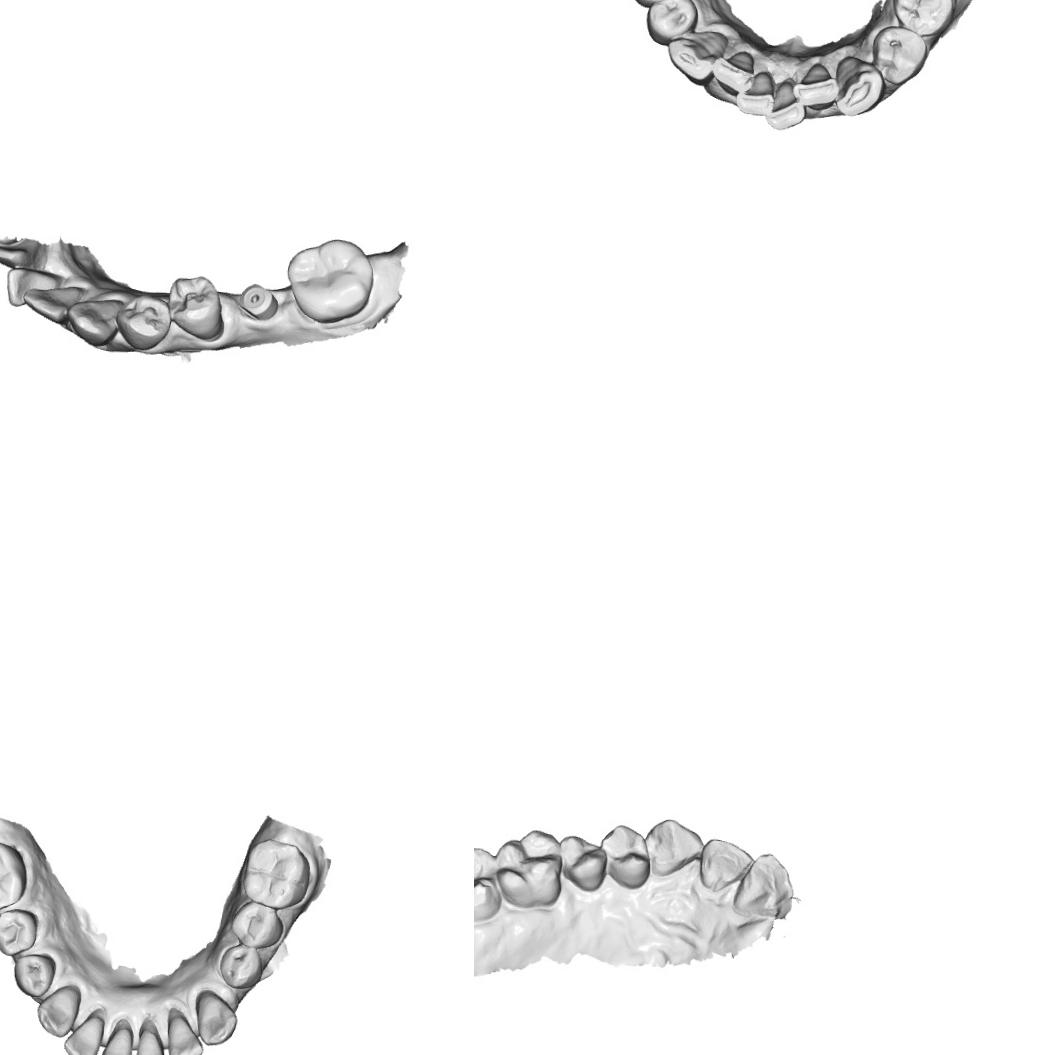canine: (643, 817, 707, 881), (665, 26, 728, 86), (833, 53, 885, 118), (66, 292, 123, 347), (33, 982, 82, 1038), (193, 990, 238, 1048)
implant: (236, 282, 281, 321)
incisor: (730, 850, 796, 920), (698, 837, 756, 894), (791, 59, 840, 112), (22, 280, 80, 322), (766, 78, 808, 132), (5, 264, 55, 309), (711, 49, 756, 93), (734, 74, 776, 118), (61, 1013, 105, 1055), (164, 1012, 206, 1055), (0, 237, 41, 269), (98, 1024, 136, 1055), (132, 1027, 166, 1055)
molar: (284, 236, 376, 325), (493, 827, 564, 909), (241, 837, 312, 912), (474, 843, 505, 920), (0, 838, 28, 917)
premolar: (164, 273, 224, 336), (598, 823, 652, 891), (870, 23, 928, 86), (115, 294, 172, 351), (557, 833, 610, 892), (229, 900, 284, 951), (645, 0, 697, 48), (217, 943, 266, 992), (892, 0, 955, 38), (12, 950, 58, 999), (0, 906, 39, 957)
